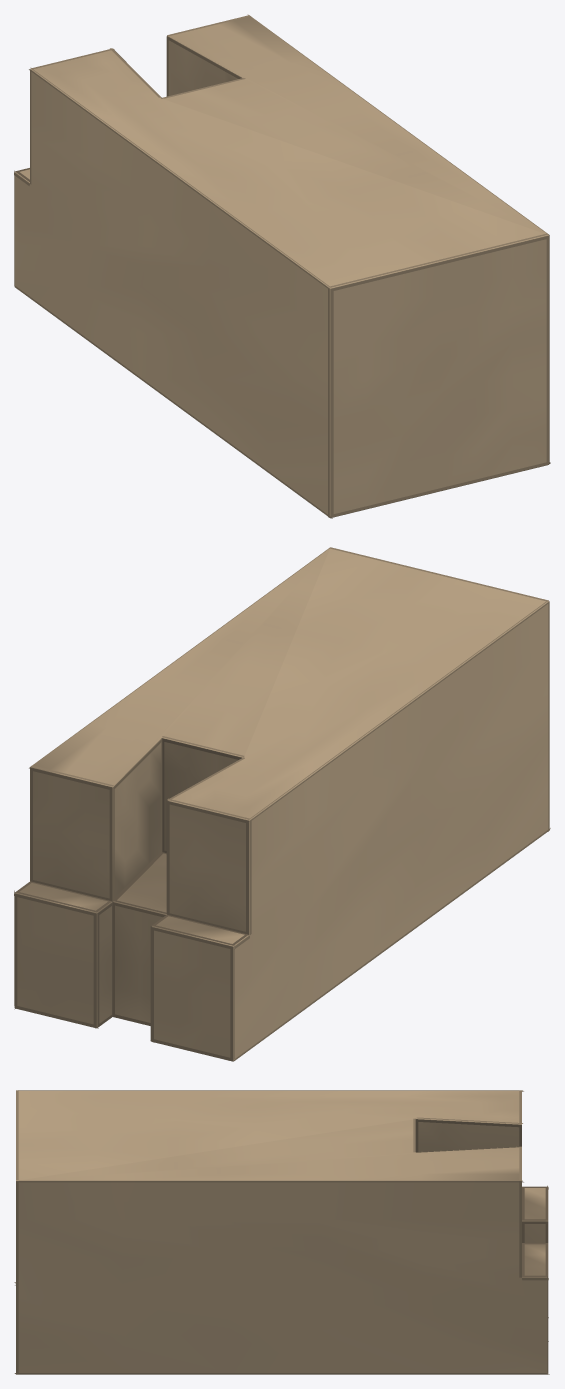
3 views of the same model, one above another, from view 1: azimuth 30°, elevation 25°; view 2: azimuth 150°, elevation 25°; view 3: azimuth 270°, elevation 25° (orthographic). The views are drawn at different scales.
Parts seen in each view (by area): view 1: part-b; view 2: part-b; view 3: part-b.
Boxes of the visible parts, box(x1,y1,x2,y2) form: part-b: box(14, 14, 550, 518); part-b: box(14, 547, 550, 1061); part-b: box(14, 1090, 549, 1374).
Bounding box in the file's own units: 0.1208 × 0.1208 × 0.3025.
